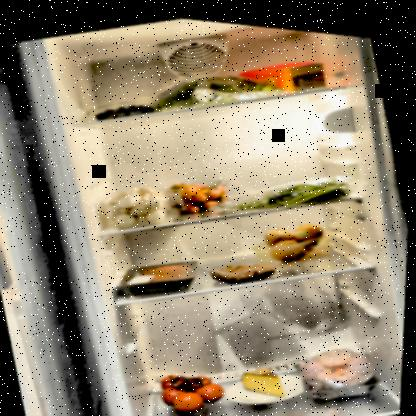beef: (124, 249, 195, 290)
blueberries: (86, 87, 159, 127)
butter: (240, 45, 312, 98)
cheese: (240, 351, 294, 402)
chicken: (292, 327, 388, 403)
corn: (288, 52, 333, 91)
green_beans: (235, 152, 363, 218)
mushrooms: (106, 177, 167, 230)
onion: (261, 205, 339, 263)
shrimp: (210, 243, 287, 290)
spinach: (154, 45, 288, 121)
strawberries: (164, 165, 233, 217)
tomato: (156, 355, 235, 415)
